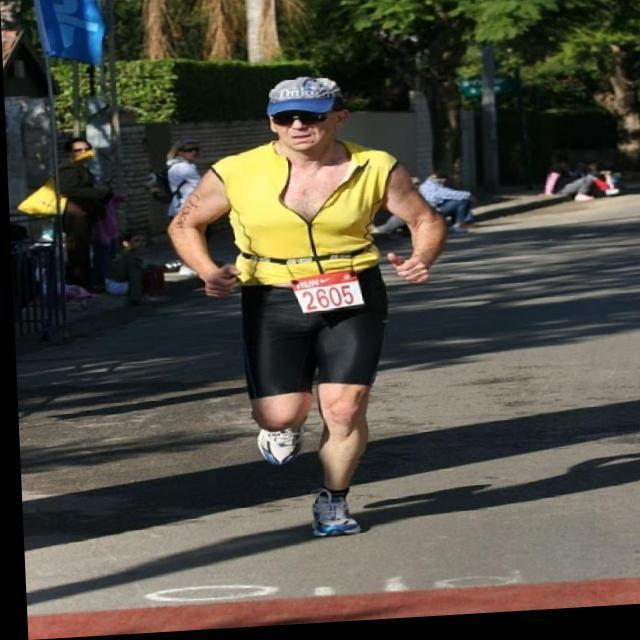dorsal: (282, 274, 371, 319)
